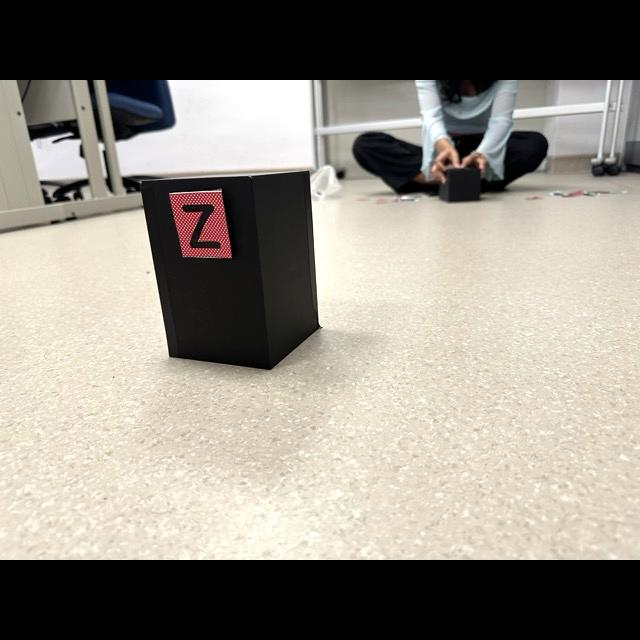Z: (182, 205, 220, 248)
